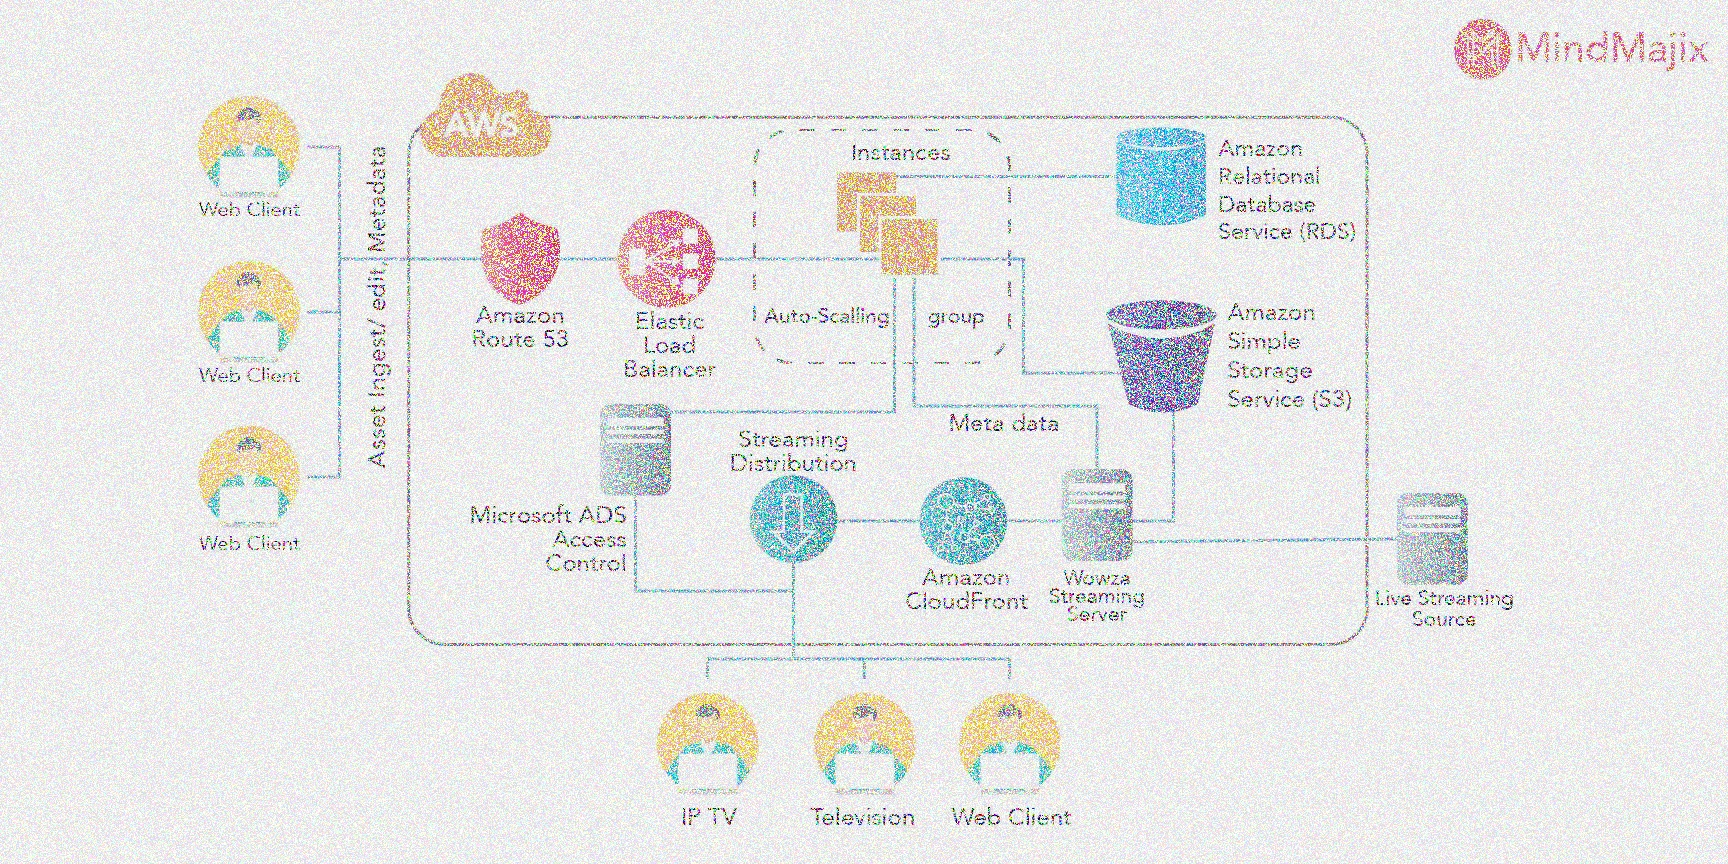Client: (186, 86, 308, 206), (191, 253, 307, 369), (954, 689, 1079, 799), (191, 419, 308, 535), (809, 689, 927, 798), (656, 689, 766, 798)
Cloudfront: (915, 471, 1010, 567)
Dynamo DB: (1106, 121, 1215, 232)
EC2: (826, 159, 946, 284)
ELB: (623, 197, 717, 310)
Route53: (479, 203, 561, 306)
S3: (1103, 289, 1225, 414)
Server: (592, 396, 679, 502), (1389, 484, 1477, 589), (1056, 464, 1140, 569)
aws: (409, 63, 558, 167)
